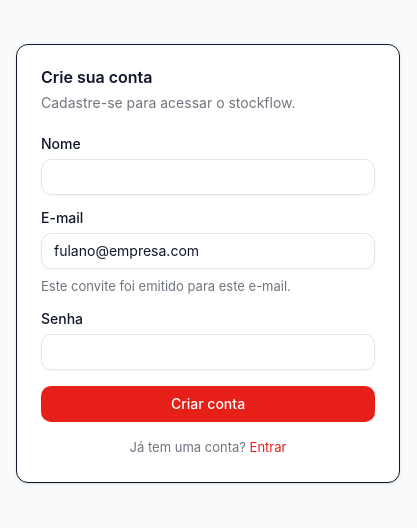
Test case: CadastroPage › mostra mensagem genérica quando o POST falha por erro de rede
Type "Fulano de Tal" into the field labelled "Nome".
click(208, 176); type("Fulano de Tal")  # box [41,158,375,194]
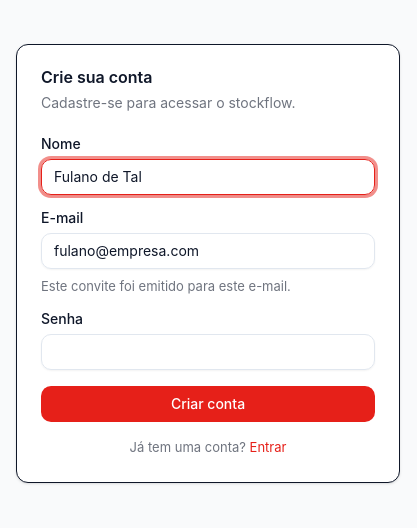
Type "senha-123456" into the password field labelled "Senha".
click(208, 352); type("senha-123456")  # box [41,334,375,370]
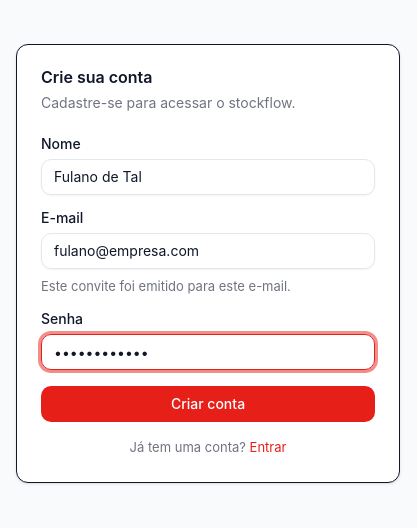
Click the button "Criar conta".
click(208, 404)  # box [41,386,375,422]
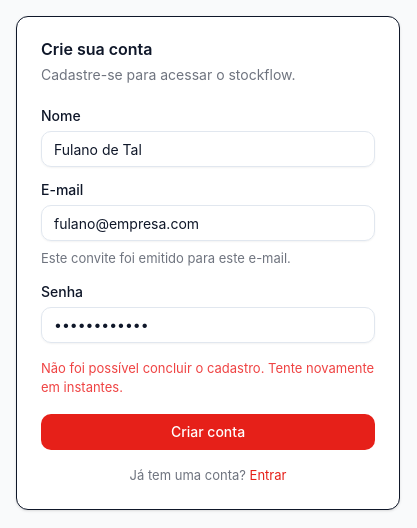
Result: the message reads "Não foi possível concluir o cadastro. Tente novamente em instantes." at [41,360,374,395]
